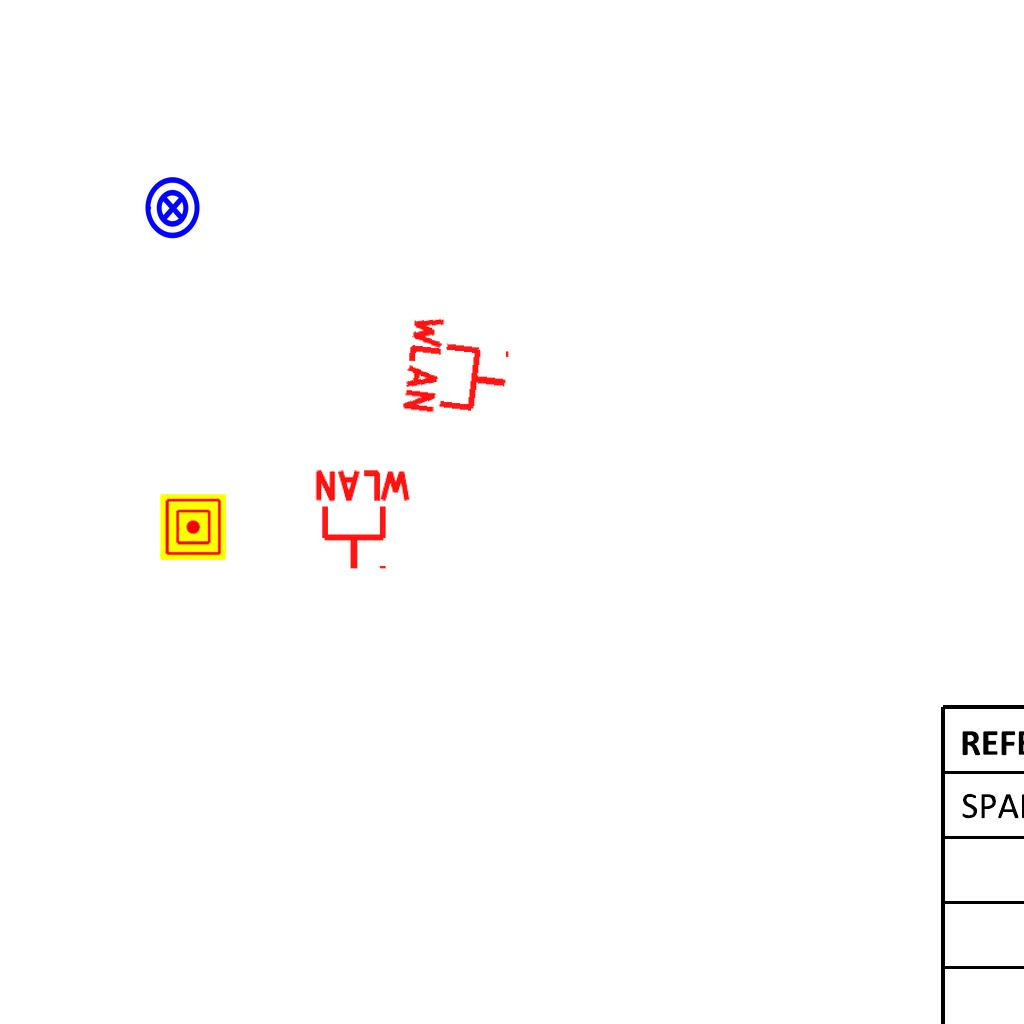NAM-Nichtautomatischer_Melder: (160, 494, 226, 560)
Taster_beleuchtet: (140, 175, 206, 241)
WLAN: (400, 309, 517, 427), (311, 468, 415, 573)
